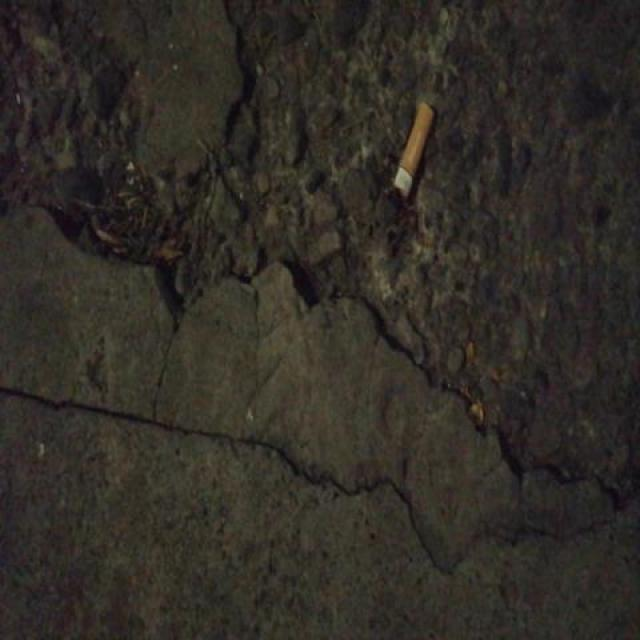non-organic waste: (389, 99, 435, 204)
